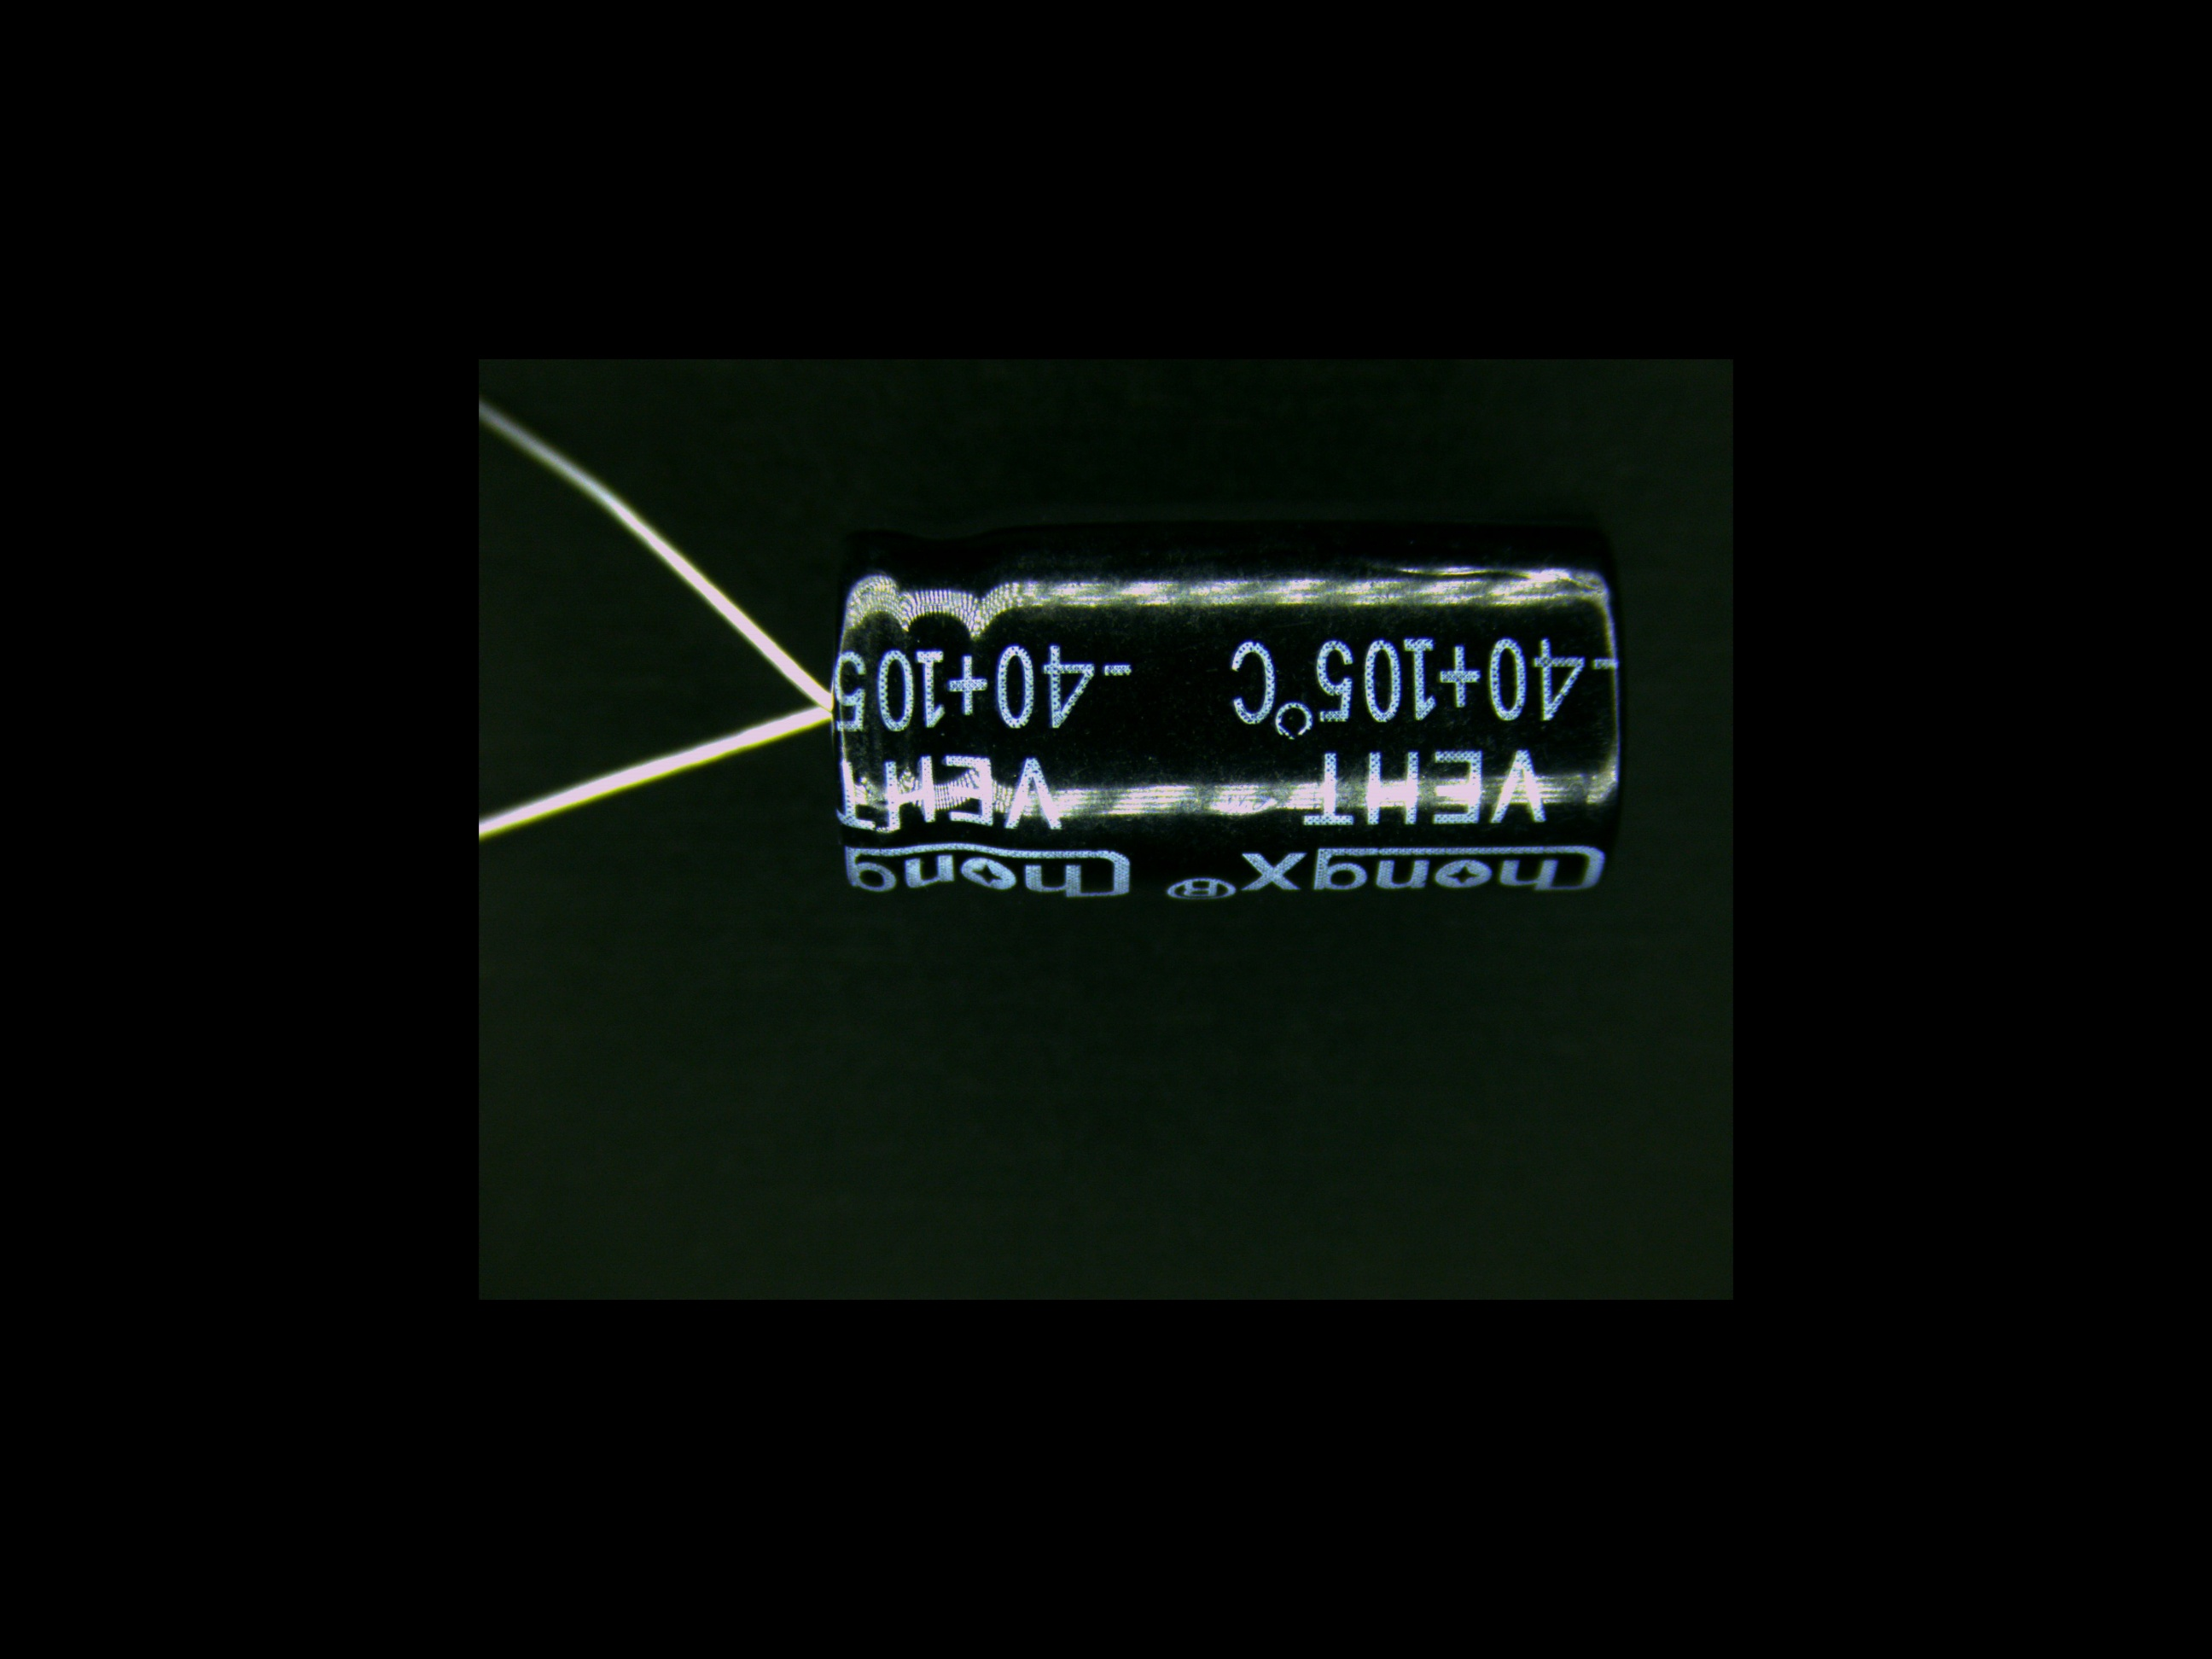c3: (662, 528, 1629, 897)
